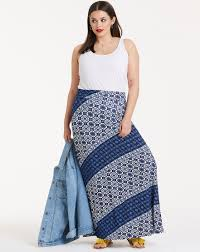C_skirt: (61, 78, 172, 242)
C_tank top: (66, 38, 138, 92)
